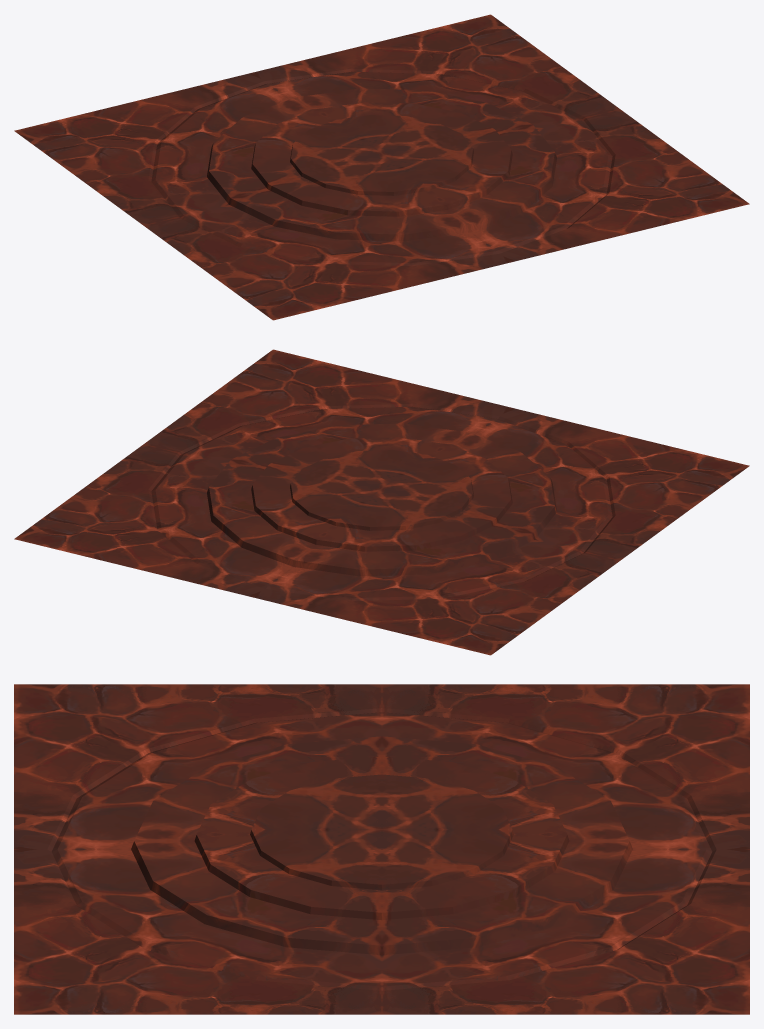
File: dimian.FBX
3 views of the same model, one above another, from view 1: azimuth 30°, elevation 25°; view 2: azimuth 150°, elevation 25°; view 3: azimuth 270°, elevation 25° (orthographic). The views are drawn at different scales.
Parts seen in each view (by area): view 1: Object03; view 2: Object03; view 3: Object03.
Boxes of the visible parts, x1,y1,x2,y2 form: Object03: (14,14,749,320); Object03: (14,349,749,655); Object03: (14,684,749,1014).
Size of what is drawn, in the model's own units: 984 by 926 by 30.86.
